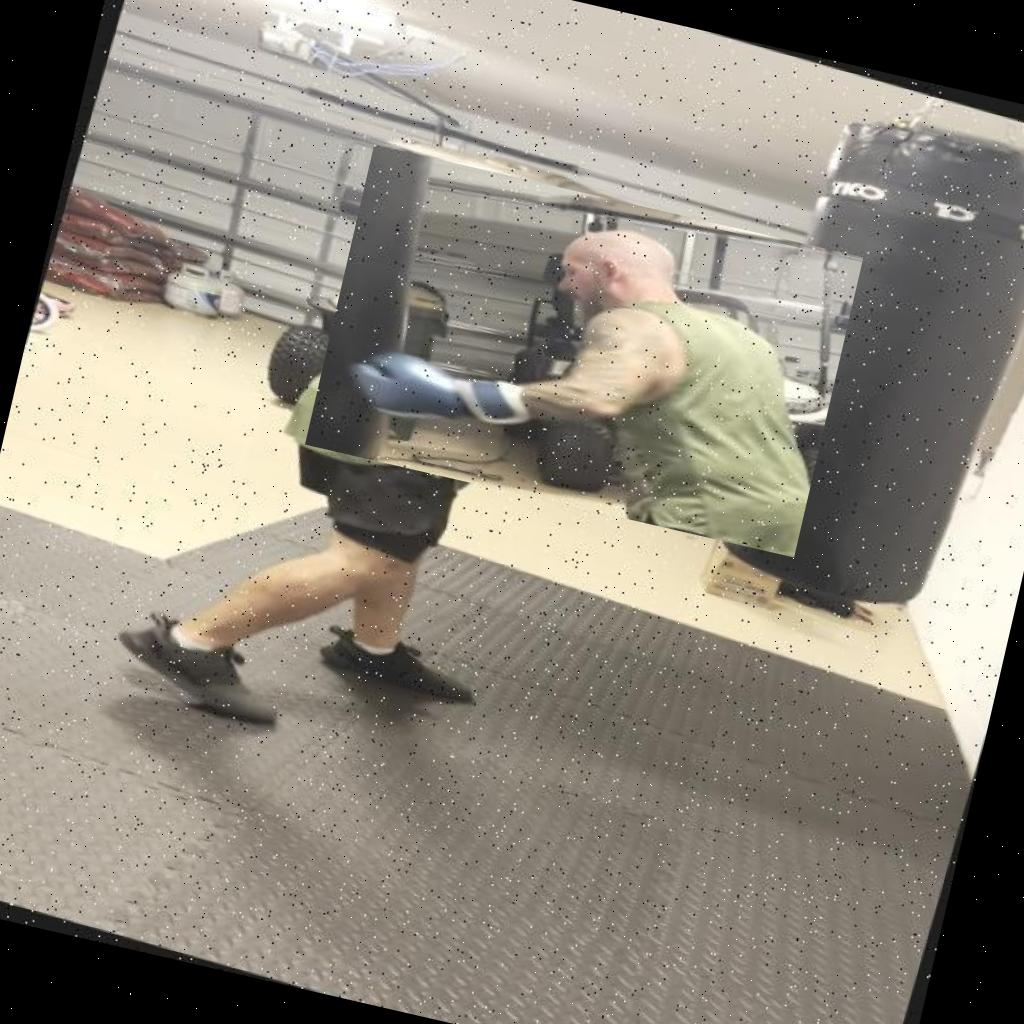bag: (693, 81, 1024, 648)
hook: (304, 144, 864, 558)
